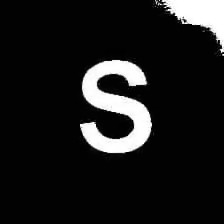LTR_S: (75, 52, 159, 157)
